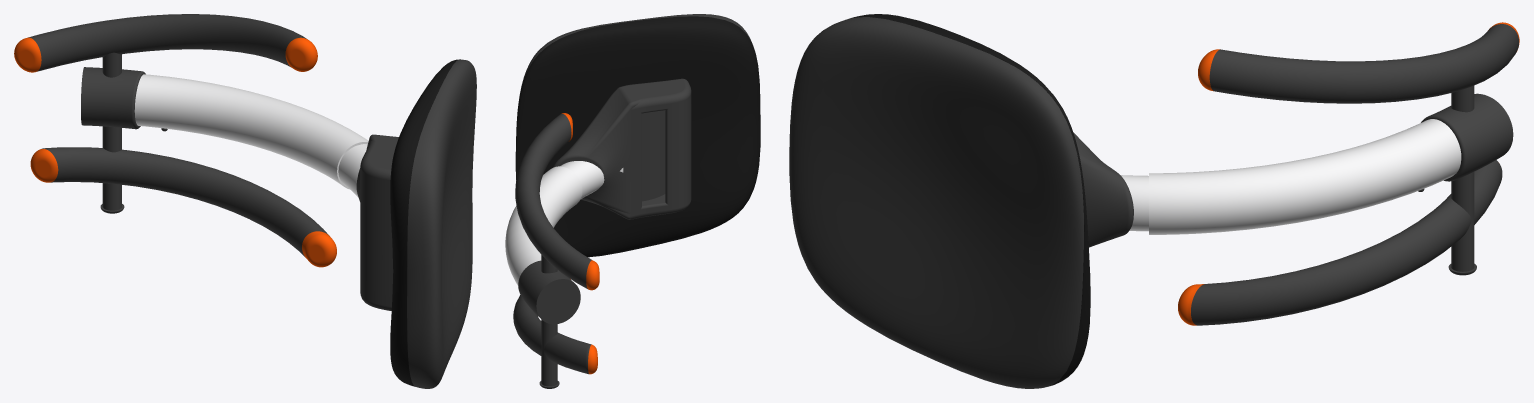
The model's file is Configuración 1.fbx.
The picture shows the model from 3 angles, left to right: view 1: azimuth 30°, elevation 25°; view 2: azimuth 150°, elevation 25°; view 3: azimuth 270°, elevation 25°; orthographic projection. The views are drawn at different scales.
Parts seen in each view (by area): view 1: Asiento arriba, Brazo inferior, Pata izq, Pata derec, Asiento abajo, Soporte asiebto, Tapa, Eje, Goma pata, Goma pata (3), Brazo superior, Goma pata (2) (+1 smaller); view 2: Asiento abajo, Soporte asiebto, Pata derec, Brazo inferior, Tapa, Pata izq, Eje, Brazo superior, Asiento arriba, Goma pata (2), Goma pata (1); view 3: Asiento arriba, Brazo inferior, Pata izq, Pata derec, Tapa, Soporte asiebto, Asiento abajo, Eje, Brazo superior.
Boxes of the visible parts, box(x1,y1,x2,y2) form: Asiento arriba: box(407, 59, 476, 388); Brazo inferior: box(134, 74, 368, 189); Pata izq: box(42, 147, 329, 256); Pata derec: box(28, 14, 307, 71); Asiento abajo: box(390, 59, 460, 386); Soporte asiebto: box(356, 134, 398, 310); Tapa: box(81, 67, 145, 129); Eje: box(100, 52, 124, 213); Goma pata: box(302, 231, 336, 267); Goma pata (3): box(285, 37, 317, 71); Brazo superior: box(338, 144, 367, 197); Goma pata (2): box(14, 37, 41, 72); Asiento abajo: box(515, 16, 760, 257); Soporte asiebto: box(553, 78, 691, 219); Pata derec: box(515, 114, 591, 288); Brazo inferior: box(505, 166, 582, 285); Tapa: box(518, 260, 580, 324); Pata izq: box(513, 295, 591, 374); Eje: box(539, 255, 559, 388); Brazo superior: box(560, 161, 623, 199); Asiento arriba: box(518, 14, 754, 101); Goma pata (2): box(586, 260, 599, 290); Goma pata (1): box(588, 344, 597, 374); Asiento arriba: box(789, 17, 1083, 388); Brazo inferior: box(1149, 119, 1461, 234); Pata izq: box(1191, 160, 1502, 325); Pata derec: box(1209, 24, 1518, 103); Tapa: box(1421, 93, 1513, 181); Soporte asiebto: box(1073, 132, 1133, 247); Asiento abajo: box(850, 14, 1090, 386); Eje: box(1448, 85, 1476, 275); Brazo superior: box(1120, 175, 1148, 231).
Size of the model in its own units: 246 by 233 by 473.
